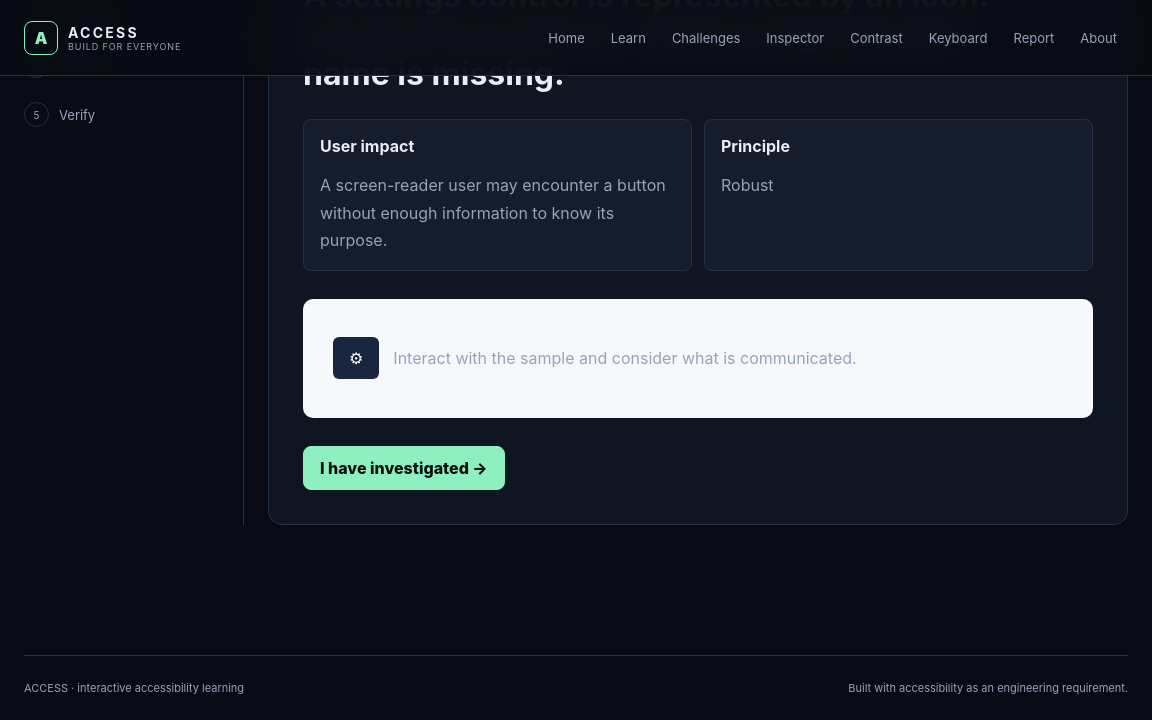
Test case: ACCESS Level 2 › completes the full challenge flow and persists the result
(page scrolled)
Click the button "I have investigated →": (404, 468) [303,446,505,490]
(page scrolled)
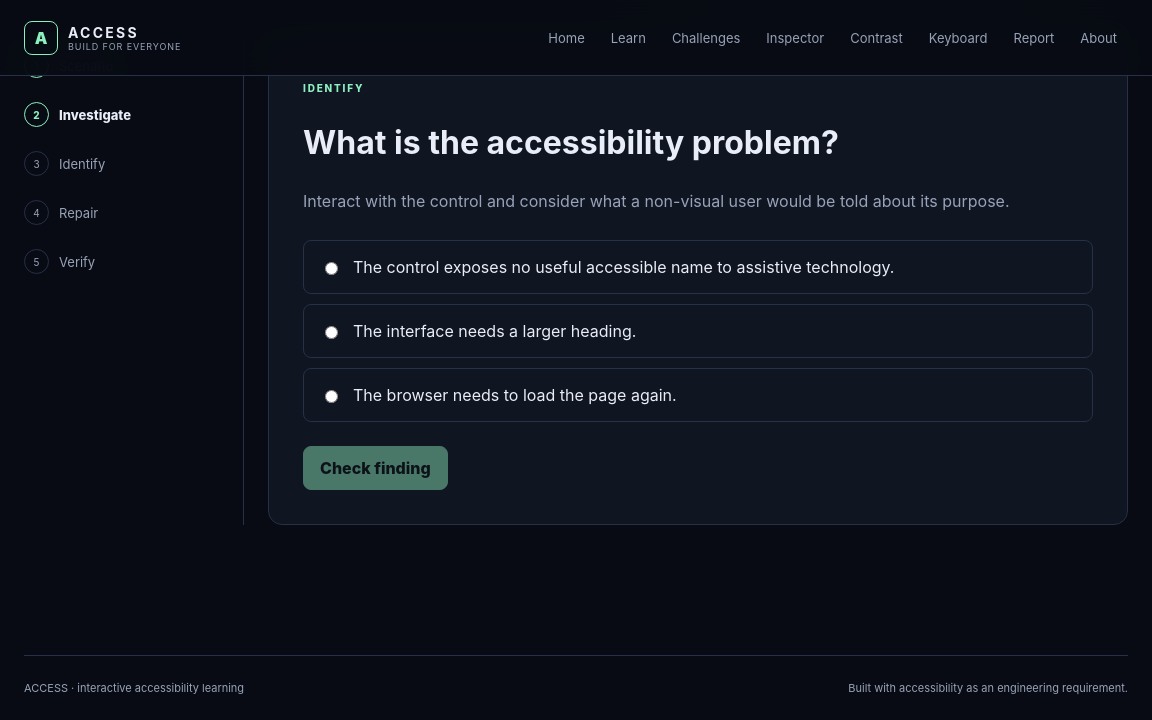
Click the radio button labelled "The control exposes no useful accessible name": (332, 268) [325,260,338,276]
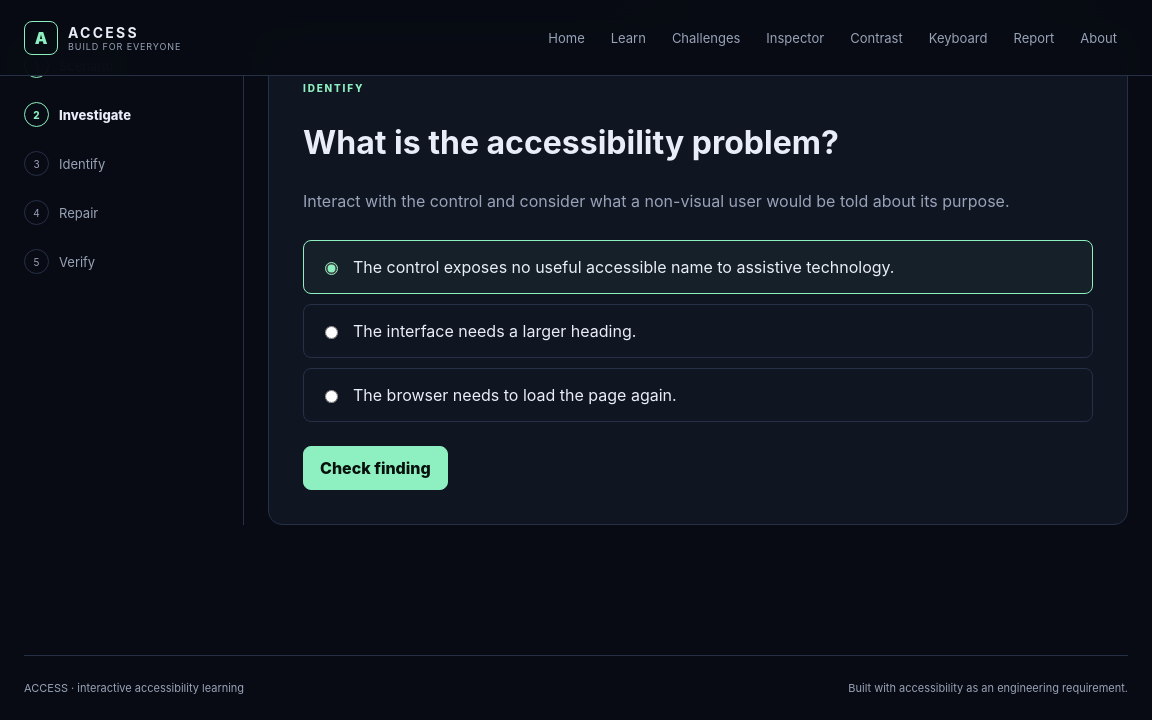
Click the button "Check finding": (375, 468) [303,446,448,490]
(page scrolled)
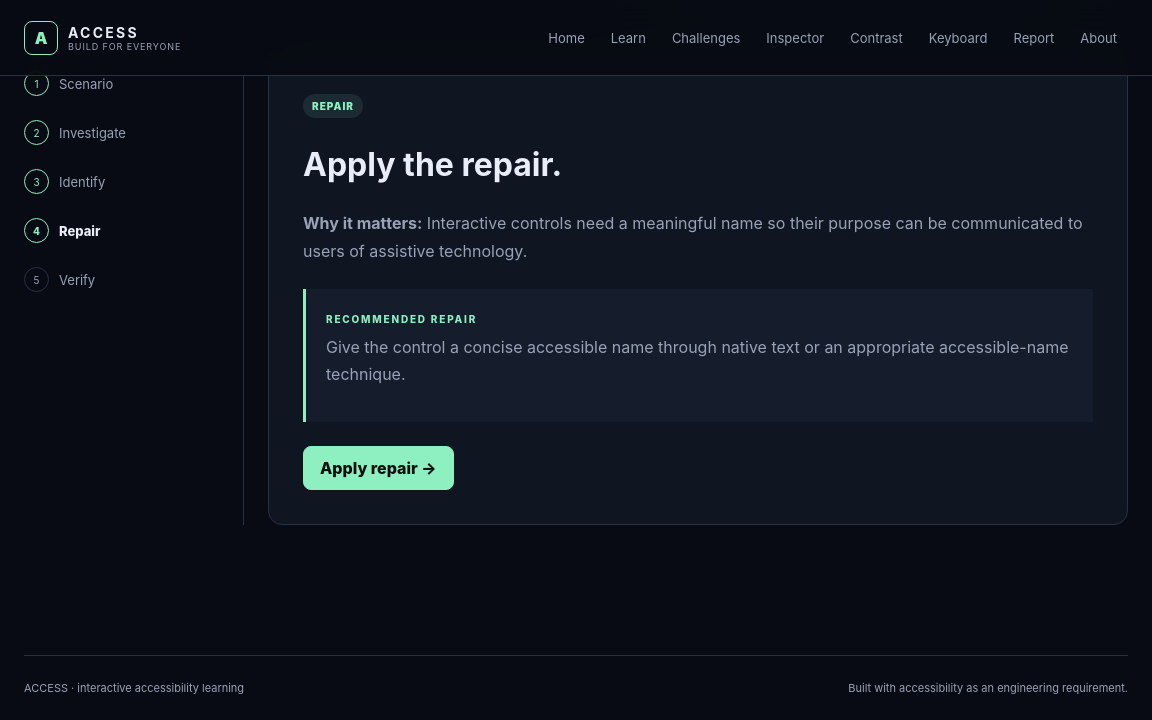
Check: the heading "Apply the repair." is shown, box [303,145,562,184]
Click the button "Apply repair →": (378, 468) [303,446,454,490]
(page scrolled)
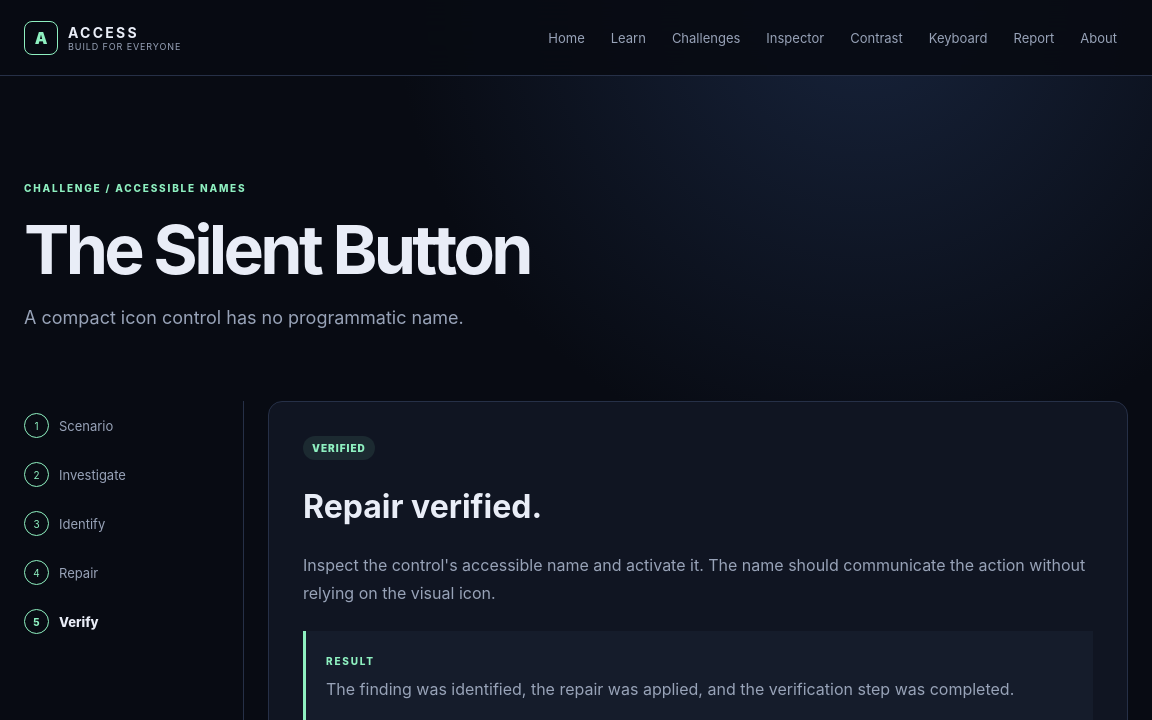
Check: the heading "Repair verified." is shown, box [303,487,542,526]
